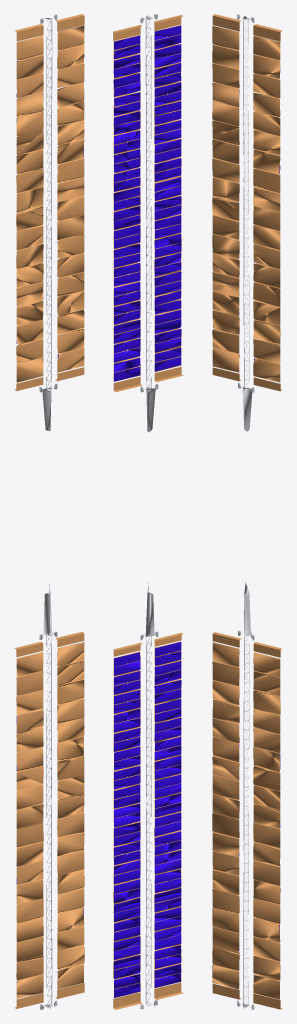
The model's file is tiangong-mengtian-arrays.glb.
3 views of the same model, side by side, from view 1: azimuth 30°, elevation 25°; view 2: azimuth 210°, elevation 25°; view 3: azimuth 330°, elevation 25° (orthographic).
Parts seen in each view (by area): view 1: mengtian-arrays; view 2: mengtian-arrays; view 3: mengtian-arrays.
Part boxes in pixels (x1,y1,x2,y2): mengtian-arrays: [14, 14, 84, 1009]; mengtian-arrays: [113, 14, 183, 1009]; mengtian-arrays: [212, 14, 282, 1009].
Size of the model in its own units: 3.98 by 55.25 by 0.5396.
Materials: 1 (1 with a texture image).
